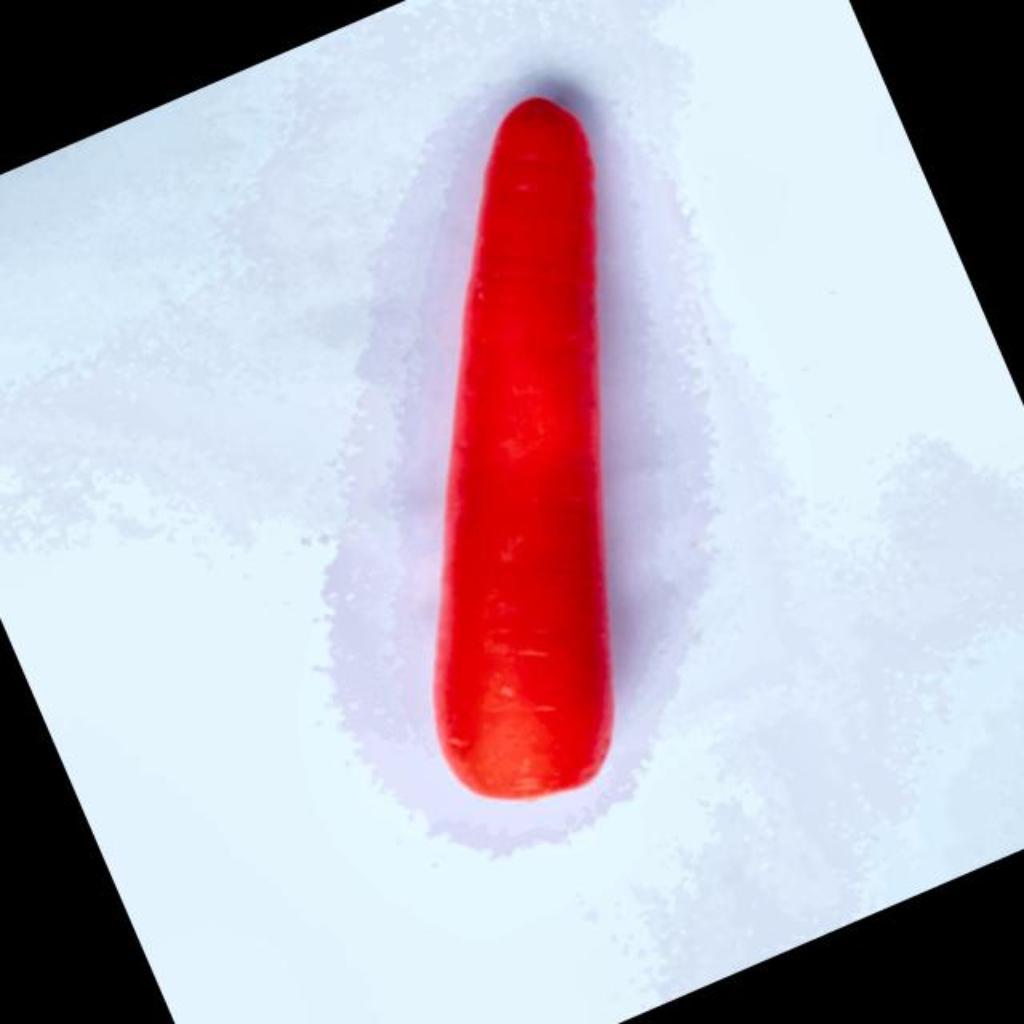carrot: (434, 98, 612, 797)
